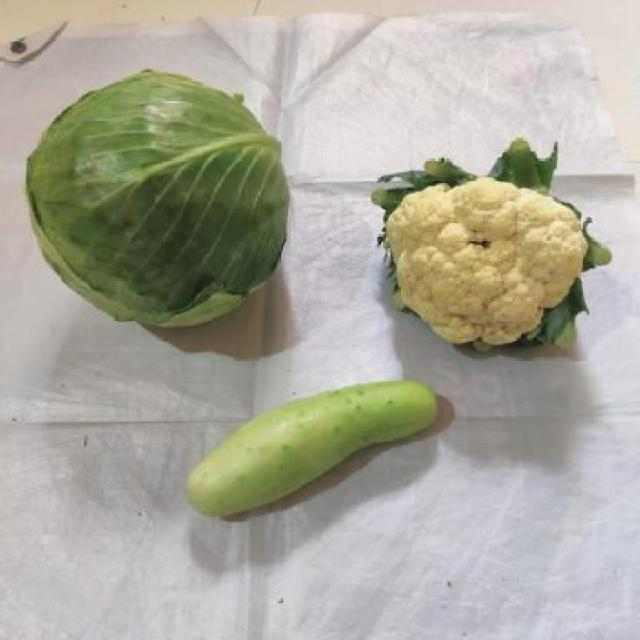Cabbage: (17, 60, 305, 360)
Cauliflower: (363, 125, 617, 362)
cucumber: (174, 370, 452, 524)
